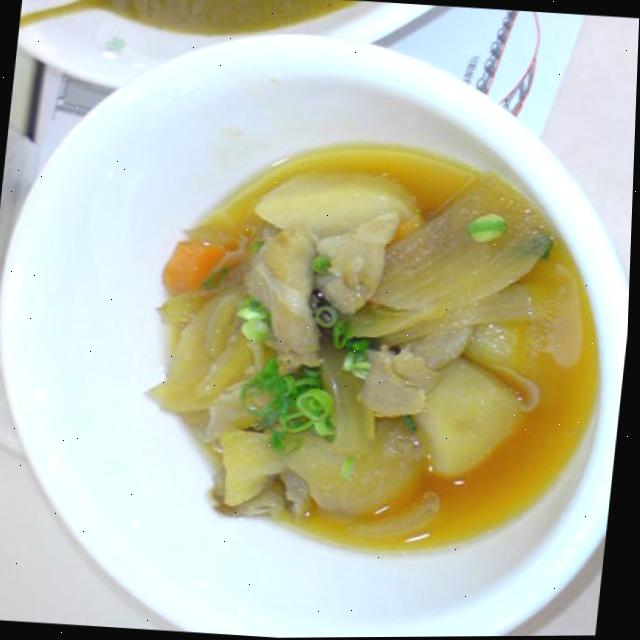牛肉菜式: (0, 4, 640, 640)
